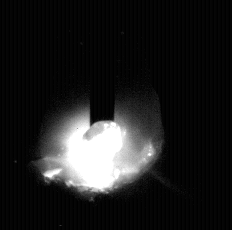arame: (90, 0, 116, 125)
poca: (38, 0, 164, 230)
